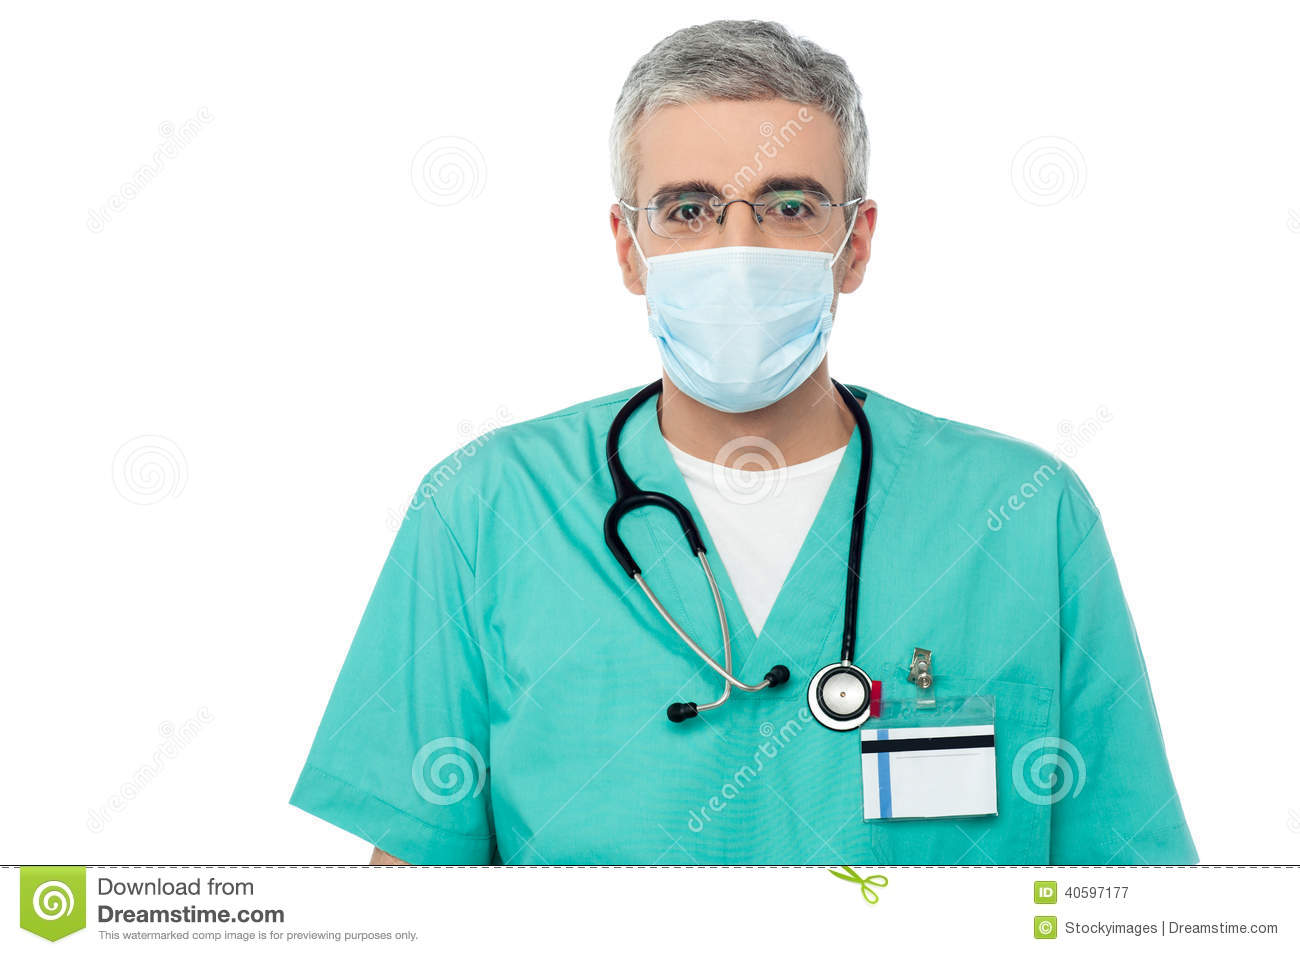mask: (638, 247, 842, 429)
